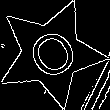O_SE: (18, 21, 84, 86)
